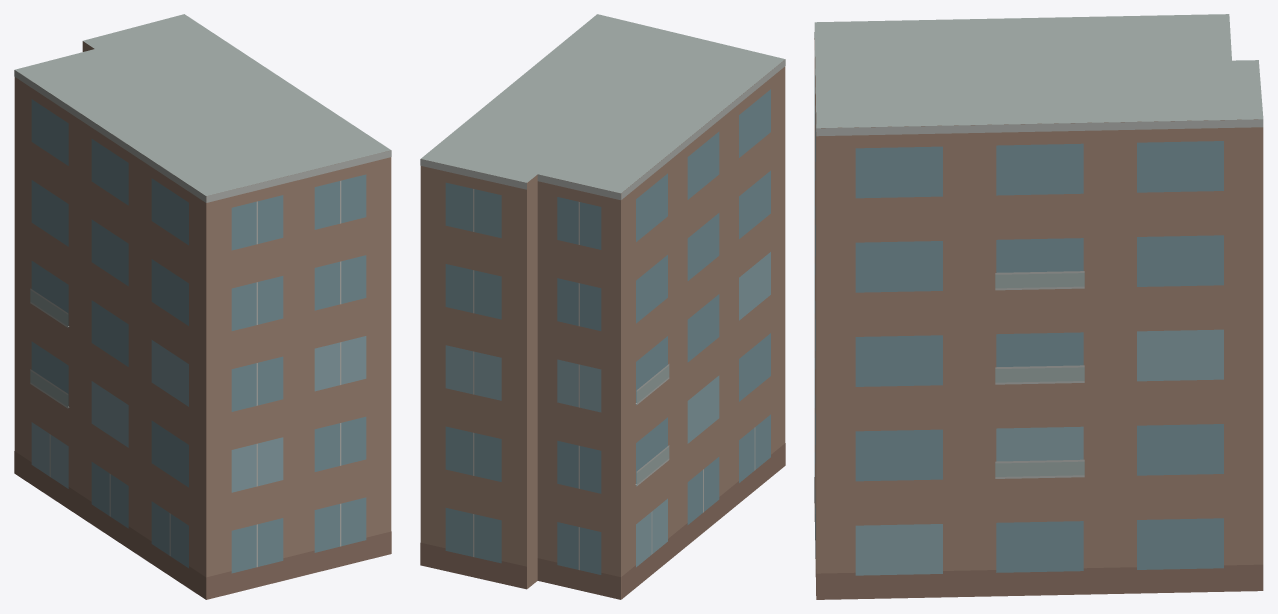
File: survey-upis-32700625.glb
The picture shows the model from 3 angles, left to right: view 1: azimuth 30°, elevation 25°; view 2: azimuth 150°, elevation 25°; view 3: azimuth 270°, elevation 25°; orthographic projection. The views are drawn at different scales.
Visible parts, largest first — view 1: survey-upis-32700625.tmp; view 2: survey-upis-32700625.tmp; view 3: survey-upis-32700625.tmp.
Part boxes in pixels (x1,y1,x2,y2): survey-upis-32700625.tmp: [14, 14, 391, 599]; survey-upis-32700625.tmp: [420, 14, 785, 599]; survey-upis-32700625.tmp: [814, 14, 1263, 599].
Size of the model in its own units: 7.49 by 14.4 by 12.43.
